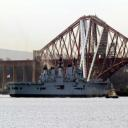Portanaves: (6, 52, 113, 99)
